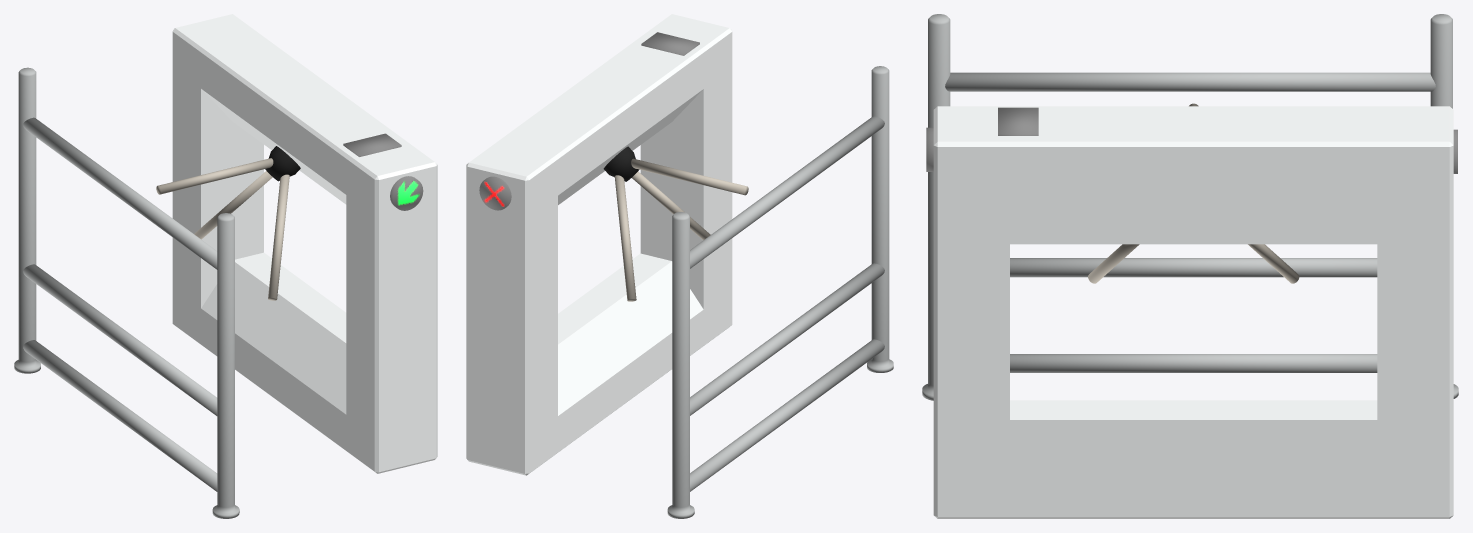
The picture shows the model from 3 angles, left to right: view 1: azimuth 30°, elevation 25°; view 2: azimuth 150°, elevation 25°; view 3: azimuth 270°, elevation 25°; orthographic projection. The views are drawn at different scales.
Visible parts, largest first — view 1: Catraca, Protecao, BaseGiratoria; view 2: Catraca, Protecao, BaseGiratoria; view 3: Catraca, Protecao, BaseGiratoria.
Part boxes in pixels (x1,y1,x2,y2): Catraca: (172,14,437,473); Protecao: (14,67,239,518); BaseGiratoria: (156,146,300,300); Catraca: (466,14,732,475); Protecao: (667,66,893,518); BaseGiratoria: (603,146,748,301); Catraca: (926,106,1457,518); Protecao: (922,14,1458,400); BaseGiratoria: (1088,103,1299,283).
Size of the model in its own units: 81.32 by 106 by 134.
Materials: 3 (3 with a texture image).
